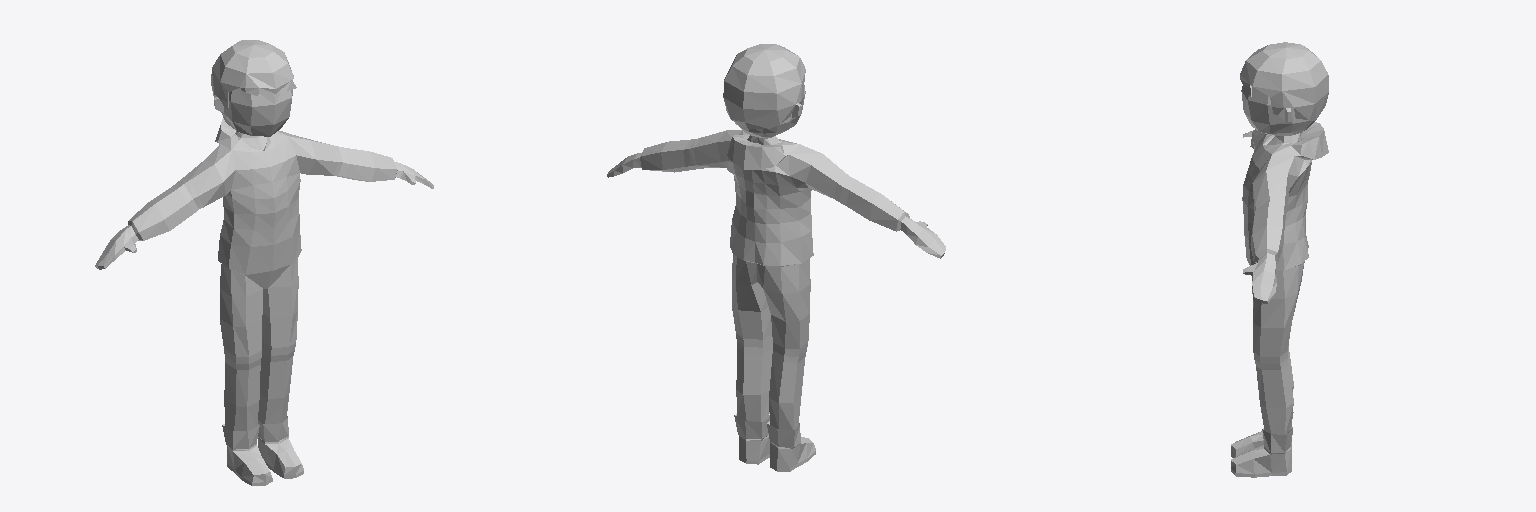
The model's file is character_male.obj.
The picture shows the model from 3 angles: view 1: azimuth 30°, elevation 25°; view 2: azimuth 150°, elevation 25°; view 3: azimuth 270°, elevation 25°; orthographic projection.
Visible parts, largest first — view 1: Body_body_mesh; view 2: Body_body_mesh; view 3: Body_body_mesh.
Boxes of the visible parts, box(x1,y1,x2,y2) form: Body_body_mesh: box(95, 40, 433, 485); Body_body_mesh: box(607, 44, 945, 471); Body_body_mesh: box(1231, 42, 1328, 477).
Bounding box in the file's own units: 2.41 × 2.87 × 0.6159.